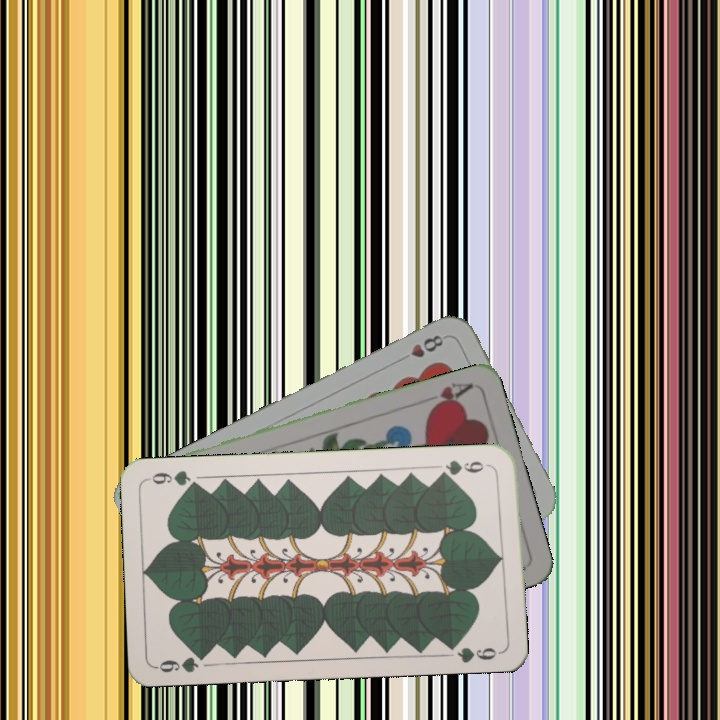G9: (153, 648, 211, 675), (435, 456, 494, 480)
H8: (407, 330, 446, 361)
HA: (424, 378, 476, 414)
